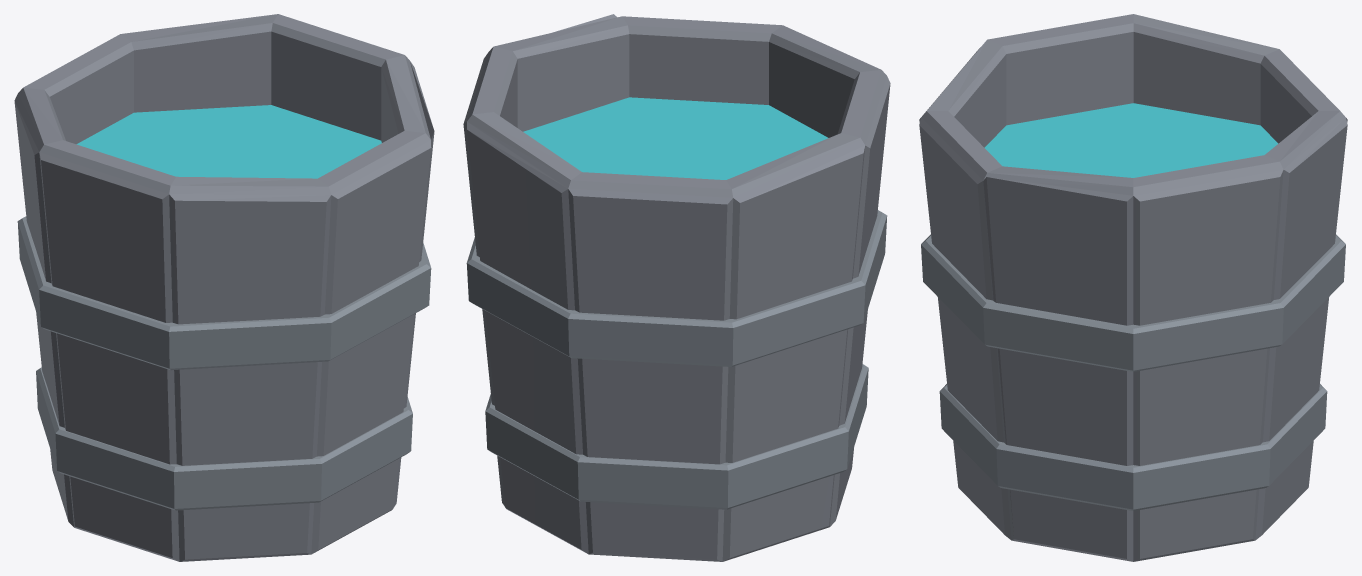
File: bucket_b.gltf
3 renders of one model, left to right at view 1: azimuth 30°, elevation 25°; view 2: azimuth 150°, elevation 25°; view 3: azimuth 270°, elevation 25°, orthographic. The views are drawn at different scales.
Parts seen in each view (by area): view 1: bucket_b001; view 2: bucket_b001; view 3: bucket_b001.
Boxes of the visible parts, box(x1,y1,x2,y2) form: bucket_b001: box(14, 14, 434, 561); bucket_b001: box(463, 14, 890, 561); bucket_b001: box(919, 14, 1347, 561).
Size of the model in its own units: 0.2707 by 0.2714 by 0.2707.
Materials: 1 (1 with a texture image).
